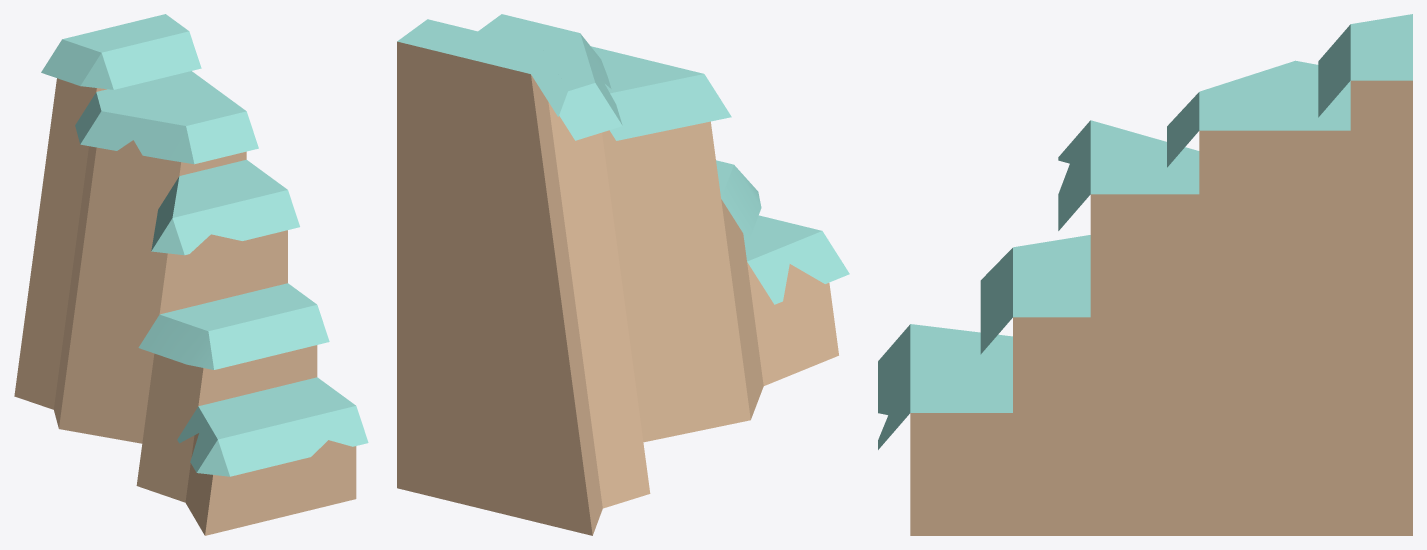
Rendered from cliffBrown_stepsEnd.glb.
The picture shows the model from 3 angles, left to right: view 1: azimuth 30°, elevation 25°; view 2: azimuth 150°, elevation 25°; view 3: azimuth 270°, elevation 25°; orthographic projection. The views are drawn at different scales.
Visible parts, largest first — view 1: cliffBrown_stepsEnd; view 2: cliffBrown_stepsEnd; view 3: cliffBrown_stepsEnd.
Part boxes in pixels (<box>): cliffBrown_stepsEnd: <box>14,14,368,535</box>; cliffBrown_stepsEnd: <box>397,14,849,535</box>; cliffBrown_stepsEnd: <box>878,14,1412,535</box>.
Size of the model in its own units: 0.4837 by 1 by 1.06.
